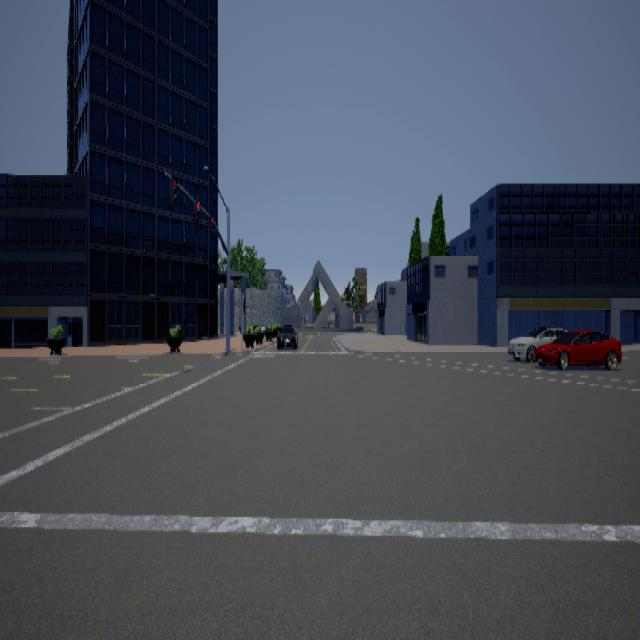red_light: (169, 177, 177, 204), (193, 200, 200, 222), (208, 214, 214, 234)
traffic_light: (242, 293, 244, 315)
vehicle: (537, 327, 621, 369), (504, 322, 559, 367), (276, 323, 297, 349)
